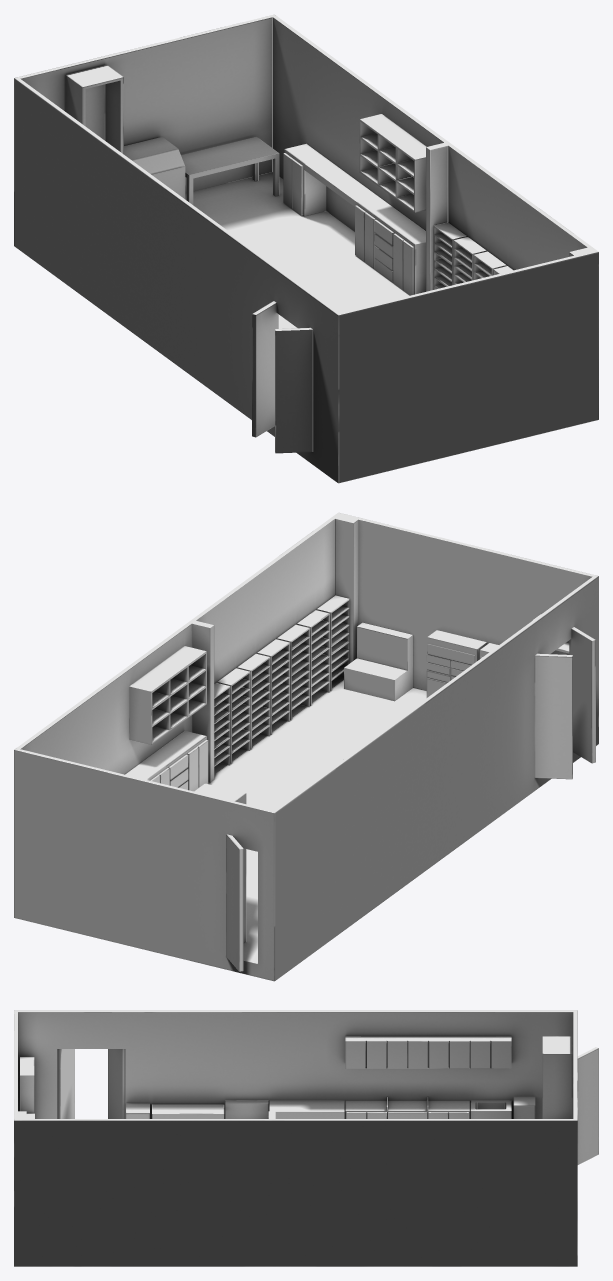
File: iLab.gltf
3 views of the same model, one above another, from view 1: azimuth 30°, elevation 25°; view 2: azimuth 150°, elevation 25°; view 3: azimuth 270°, elevation 25° (orthographic). The views are drawn at different scales.
Parts seen in each view (by area): view 1: Part 1.002; view 2: Part 1.002; view 3: Part 1.002.
Boxes of the visible parts, left/top/right/bottom form: Part 1.002: left=14, top=14, right=598, bottom=483; Part 1.002: left=14, top=512, right=598, bottom=981; Part 1.002: left=14, top=1010, right=598, bottom=1266.
Bounding box in the file's own units: 143 × 79.2 × 288.
Materials: 1 (1 with a texture image).
